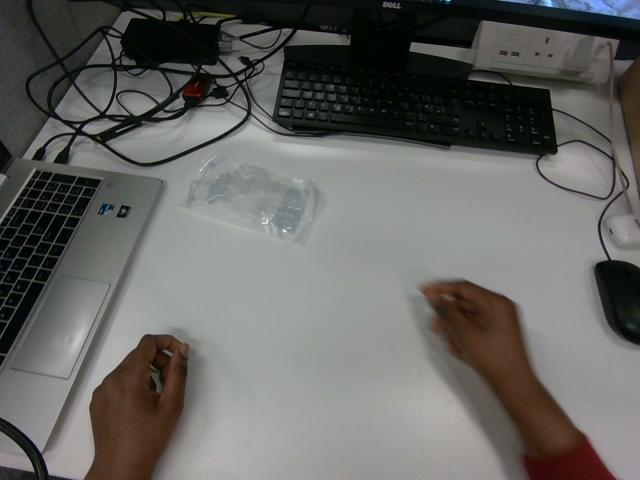gallipot: (186, 156, 314, 242)
